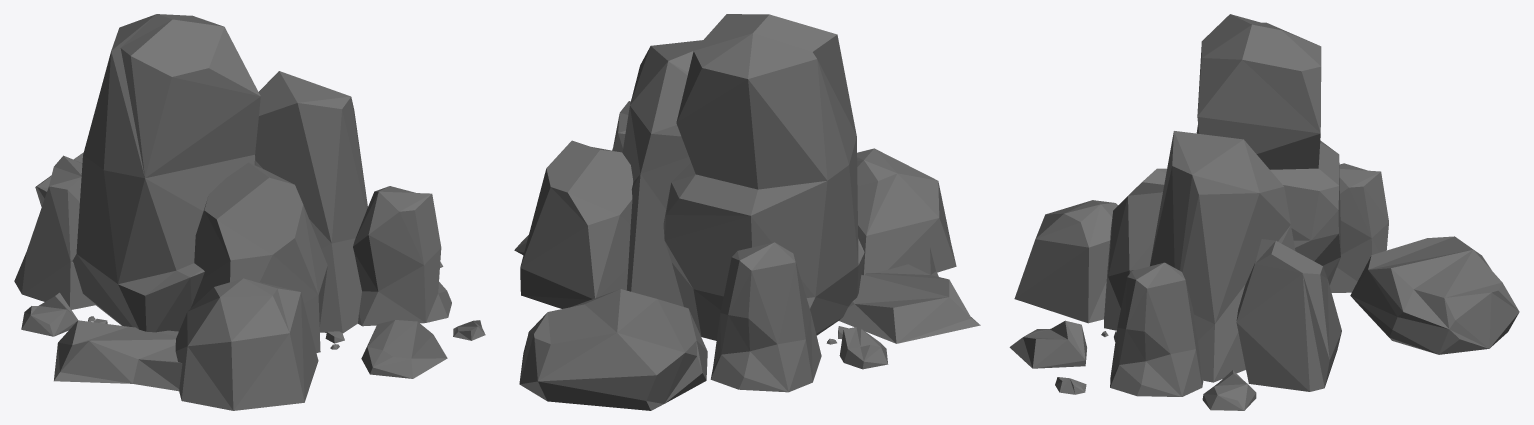
File: Stone_A_08.FBX
3 renders of one model, left to right at view 1: azimuth 30°, elevation 25°; view 2: azimuth 150°, elevation 25°; view 3: azimuth 270°, elevation 25°, orthographic. The views are drawn at different scales.
Visible parts, largest first — view 1: Stone_A_08; view 2: Stone_A_08; view 3: Stone_A_08.
Part boxes in pixels (x1,y1,x2,y2): Stone_A_08: (14,14,485,410); Stone_A_08: (514,14,980,410); Stone_A_08: (1009,14,1519,410).
Bounding box in the file's own units: 11.01 × 7.45 × 12.65.
